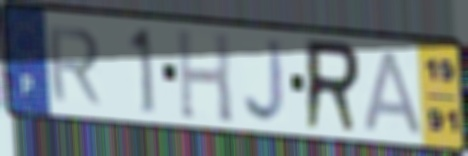1: (126, 26, 158, 116)
A: (361, 46, 426, 138)
H: (174, 26, 236, 127)
J: (242, 36, 290, 127)
R: (302, 35, 364, 136), (44, 24, 105, 107)
